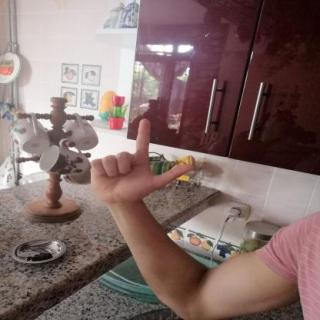LAAM: (82, 115, 201, 213)
